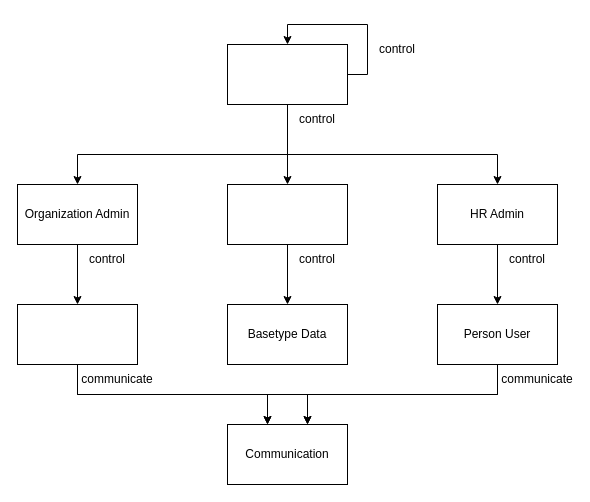
Some shapes in this 590 by 502 pixel diagram are drawn without their labels. The centre of each missing label's shape, as x and y in pixels:
"Basetype Admin" goes at (x=287, y=214).
"Organization User" goes at (x=77, y=334).
"System Admin" goes at (x=287, y=74).
